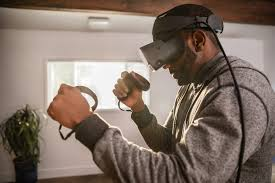oculus: (137, 28, 189, 78)
